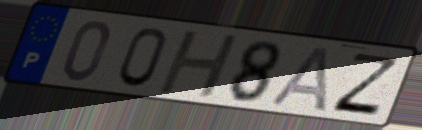0: (60, 19, 113, 84), (117, 26, 170, 90)
8: (228, 39, 284, 104)
A: (267, 44, 334, 114)
H: (154, 30, 243, 100)
Z: (327, 51, 403, 118)
